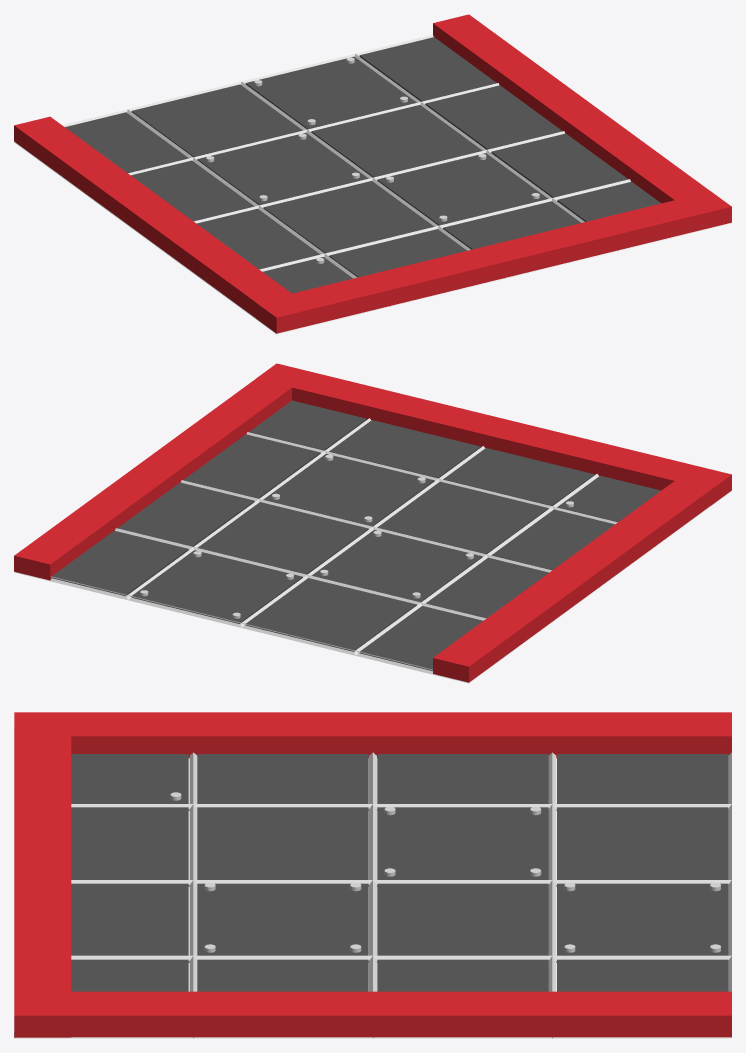
The model's file is End.fbx.
3 views of the same model, one above another, from view 1: azimuth 30°, elevation 25°; view 2: azimuth 150°, elevation 25°; view 3: azimuth 270°, elevation 25° (orthographic). The views are drawn at different scales.
Visible parts, largest first — view 1: Base.003, Cube.003, Plane.003, Cylinder.003; view 2: Base.003, Cube.003, Plane.003, Cylinder.003; view 3: Base.003, Cube.003, Plane.003, Cylinder.003.
Part boxes in pixels (x1=…): Base.003: x1=65, y1=37, x2=660, y2=293; Cube.003: x1=14, y1=14, x2=731, y2=333; Plane.003: x1=14, y1=35, x2=731, y2=334; Cylinder.003: x1=206, y1=57, x2=539, y2=263; Base.003: x1=52, y1=400, x2=660, y2=670; Cube.003: x1=14, y1=363, x2=731, y2=682; Plane.003: x1=14, y1=418, x2=731, y2=683; Cylinder.003: x1=140, y1=454, x2=573, y2=618; Base.003: x1=71, y1=754, x2=728, y2=991; Cube.003: x1=14, y1=712, x2=731, y2=1037; Plane.003: x1=14, y1=728, x2=731, y2=1038; Cylinder.003: x1=170, y1=792, x2=720, y2=952.
Bounding box in the file's own units: 1.01 × 0.037 × 1.01.
